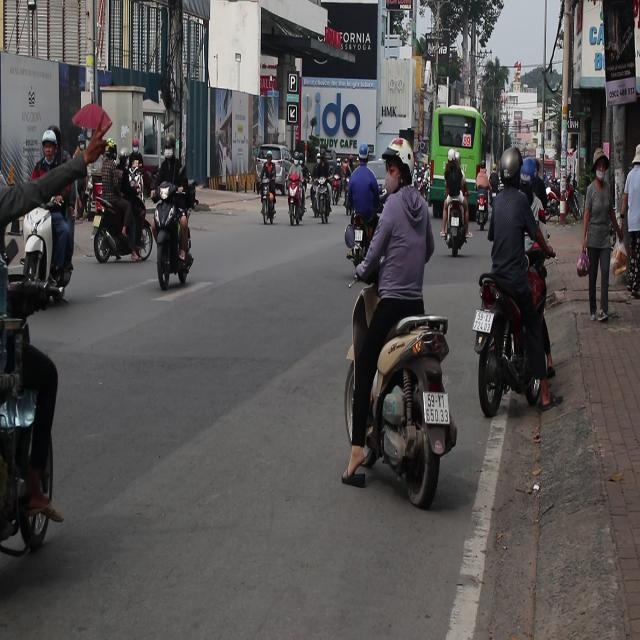bus: (431, 96, 488, 220)
car: (255, 144, 291, 168)
motorbike: (357, 305, 457, 509), (0, 289, 61, 561), (475, 281, 576, 418), (19, 195, 79, 282), (148, 182, 196, 289), (93, 189, 154, 263), (255, 165, 280, 229), (310, 182, 337, 233), (346, 212, 370, 268), (284, 177, 304, 234), (445, 203, 466, 249), (476, 193, 490, 231)
